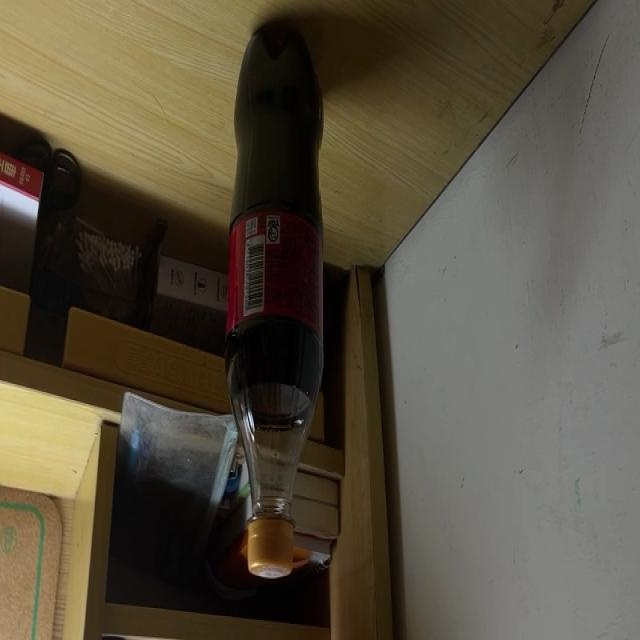Coca-Cola: (226, 22, 327, 577)
